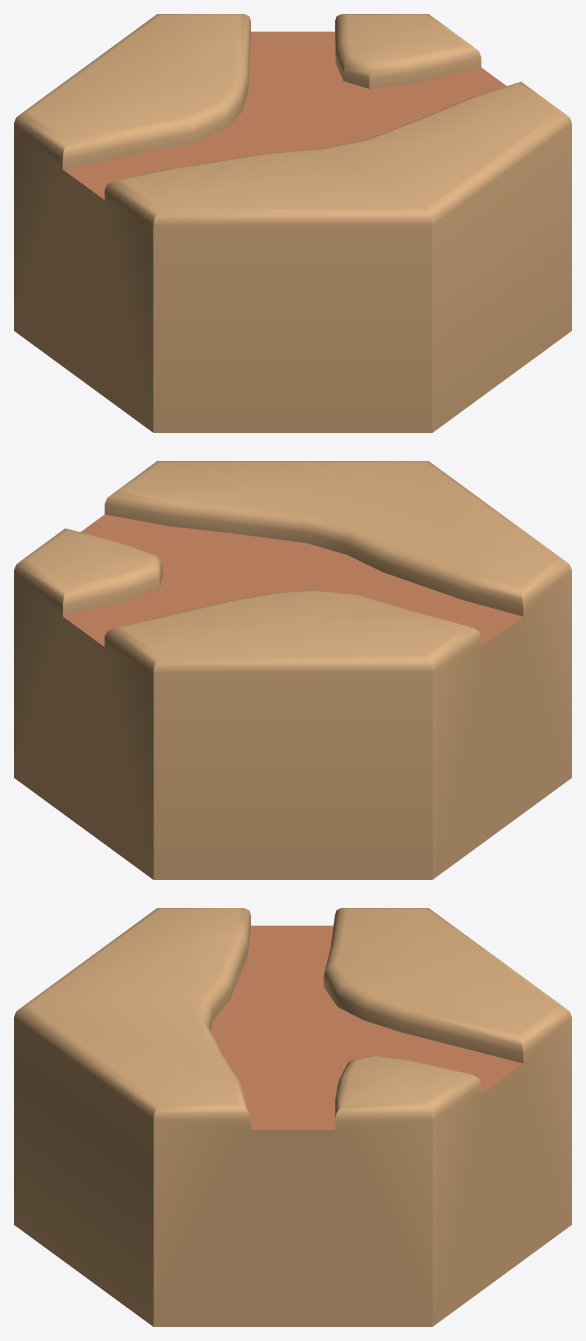
Rendered from kaykit-hex-sand-roadf.glb.
3 renders of one model, top to bottom at view 1: azimuth 30°, elevation 25°; view 2: azimuth 150°, elevation 25°; view 3: azimuth 270°, elevation 25°, orthographic.
Visible parts, largest first — view 1: hex_sand_roadF; view 2: hex_sand_roadF; view 3: hex_sand_roadF.
Part boxes in pixels (x1=…): hex_sand_roadF: x1=14, y1=14, x2=571, y2=432; hex_sand_roadF: x1=14, y1=461, x2=571, y2=879; hex_sand_roadF: x1=14, y1=908, x2=571, y2=1326.
Bounding box in the file's own units: 2 × 1 × 2.31.
